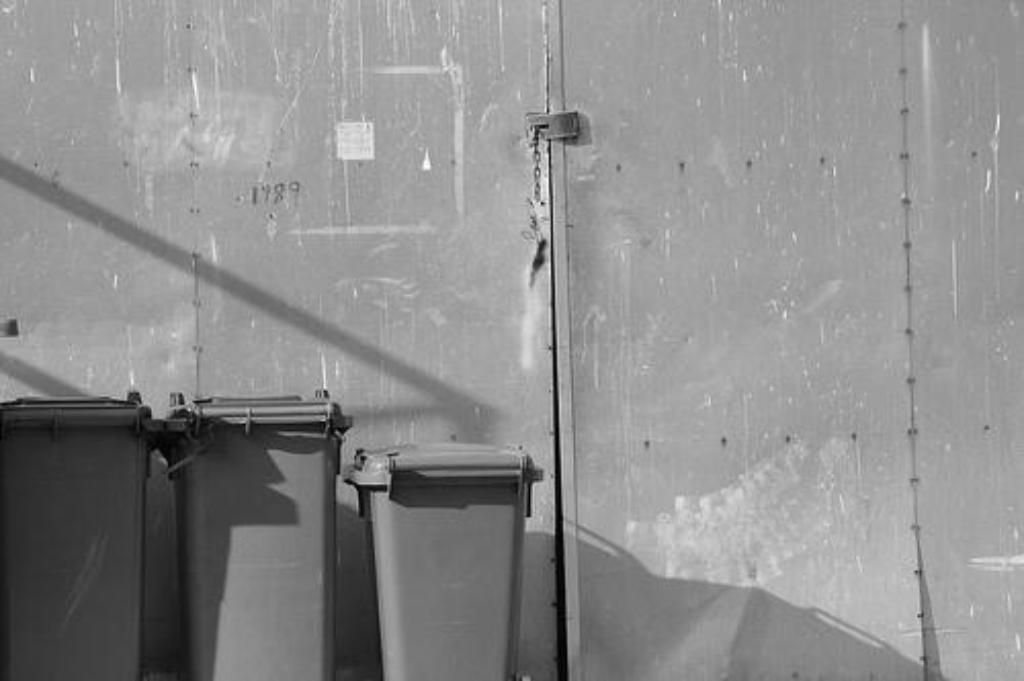dustbin: (154, 383, 355, 681), (345, 430, 548, 681), (0, 370, 157, 681)
